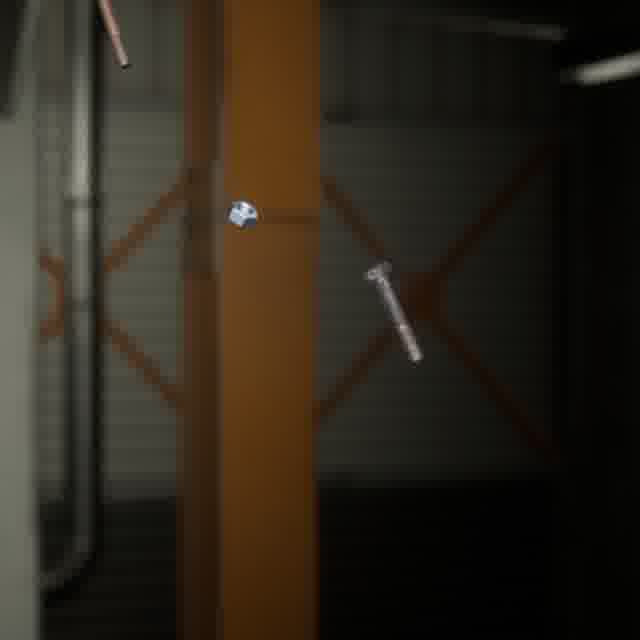bolt: (358, 256, 427, 366), (92, 0, 135, 73)
nut: (223, 195, 262, 231)
